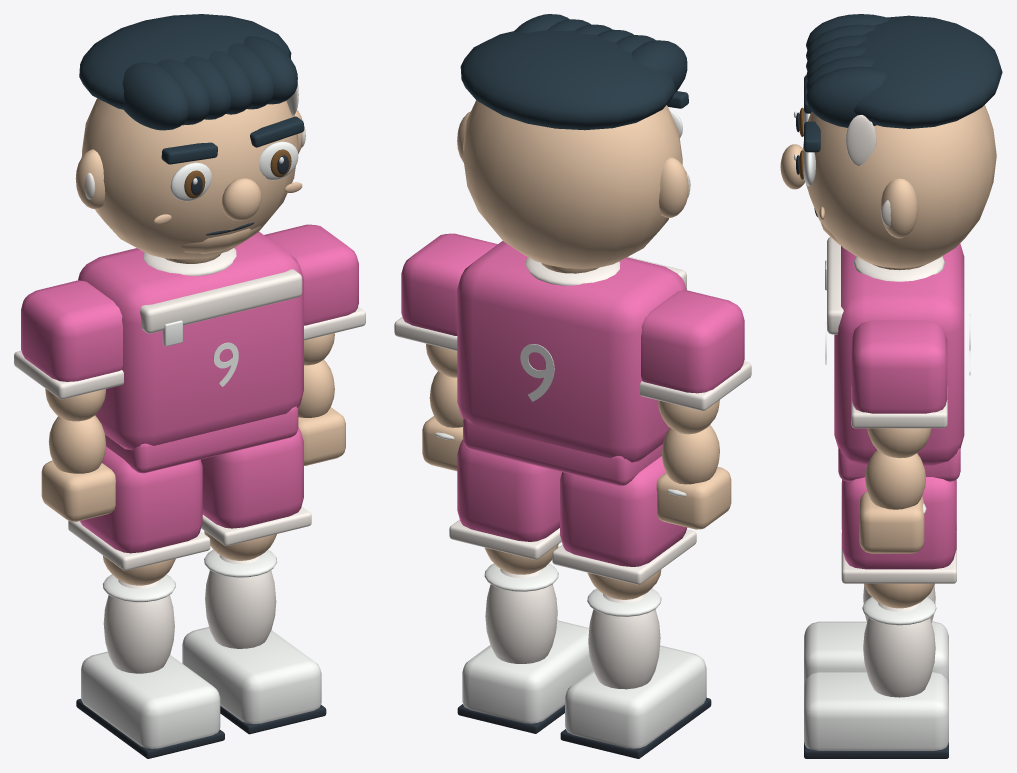
Rendered from Deniz.fbx.
The picture shows the model from 3 angles, left to right: view 1: azimuth 30°, elevation 25°; view 2: azimuth 150°, elevation 25°; view 3: azimuth 270°, elevation 25°; orthographic projection.
Visible parts, largest first — view 1: Torso, Head, Boot_Left, Boot_Right, Sleeve_Left, HairCap, Shorts_Left, Shorts_Right, Sleeve_Right, Sock_Right, Sock_Left, Waist (+31 smaller); view 2: Torso, Head, HairCap, Shorts_Left, Sleeve_Left, Boot_Left, Shorts_Right, Boot_Right, Sleeve_Right, Sock_Right, Sock_Left, Waist (+21 smaller); view 3: Head, Torso, HairCap, Boot_Right, Sleeve_Right, Shorts_Right, Sock_Right, Boot_Left, Hand_Right, SideSweep.005, Forearm_Right, ShortHem_Right (+18 smaller).
Part boxes in pixels (x1=…): Torso: x1=78, y1=232, x2=303, y2=450; Head: x1=81, y1=98, x2=298, y2=259; Boot_Left: x1=81, y1=651, x2=220, y2=748; Boot_Right: x1=182, y1=627, x2=321, y2=724; Sleeve_Left: x1=21, y1=280, x2=122, y2=381; HairCap: x1=79, y1=14, x2=291, y2=109; Shorts_Left: x1=80, y1=446, x2=202, y2=553; Shorts_Right: x1=201, y1=427, x2=303, y2=528; Sleeve_Right: x1=264, y1=224, x2=358, y2=325; Sock_Right: x1=205, y1=555, x2=276, y2=648; Sock_Left: x1=103, y1=579, x2=174, y2=673; Waist: x1=105, y1=406, x2=298, y2=473; Torso: x1=457, y1=241, x2=686, y2=462; Head: x1=463, y1=100, x2=682, y2=268; HairCap: x1=460, y1=30, x2=675, y2=130; Shorts_Left: x1=560, y1=456, x2=686, y2=566; Sleeve_Left: x1=641, y1=290, x2=744, y2=393; Boot_Left: x1=565, y1=645, x2=706, y2=748; Shorts_Right: x1=457, y1=439, x2=561, y2=541; Boot_Right: x1=462, y1=620, x2=592, y2=723; Sleeve_Right: x1=401, y1=233, x2=497, y2=335; Sock_Right: x1=485, y1=568, x2=557, y2=663; Sock_Left: x1=588, y1=594, x2=660, y2=689; Waist: x1=463, y1=418, x2=662, y2=485; Head: x1=802, y1=105, x2=996, y2=268; Torso: x1=834, y1=243, x2=964, y2=465; HairCap: x1=853, y1=15, x2=1002, y2=128; Boot_Right: x1=804, y1=671, x2=948, y2=750; Sleeve_Right: x1=851, y1=320, x2=947, y2=413; Shorts_Right: x1=842, y1=477, x2=956, y2=569; Sock_Right: x1=863, y1=602, x2=935, y2=697; Boot_Left: x1=804, y1=621, x2=948, y2=685; Hand_Right: x1=859, y1=491, x2=924, y2=553; SideSweep.005: x1=806, y1=66, x2=886, y2=127; Forearm_Right: x1=865, y1=450, x2=925, y2=509; ShortHem_Right: x1=841, y1=532, x2=956, y2=583.
Size of the model in its own units: 93.59 by 194 by 57.9.
